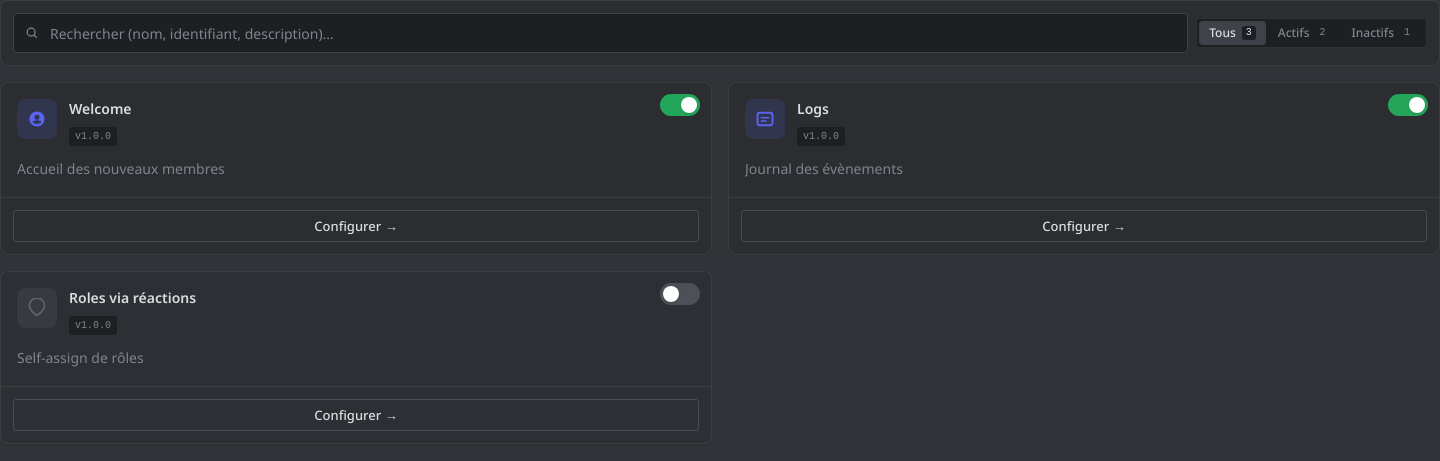
Test: ModuleList › filtre par texte (nom, id, description) via la barre de recherche
In the search field named "Rechercher un module": (601, 33) [13, 13, 1188, 53], type "accueil"
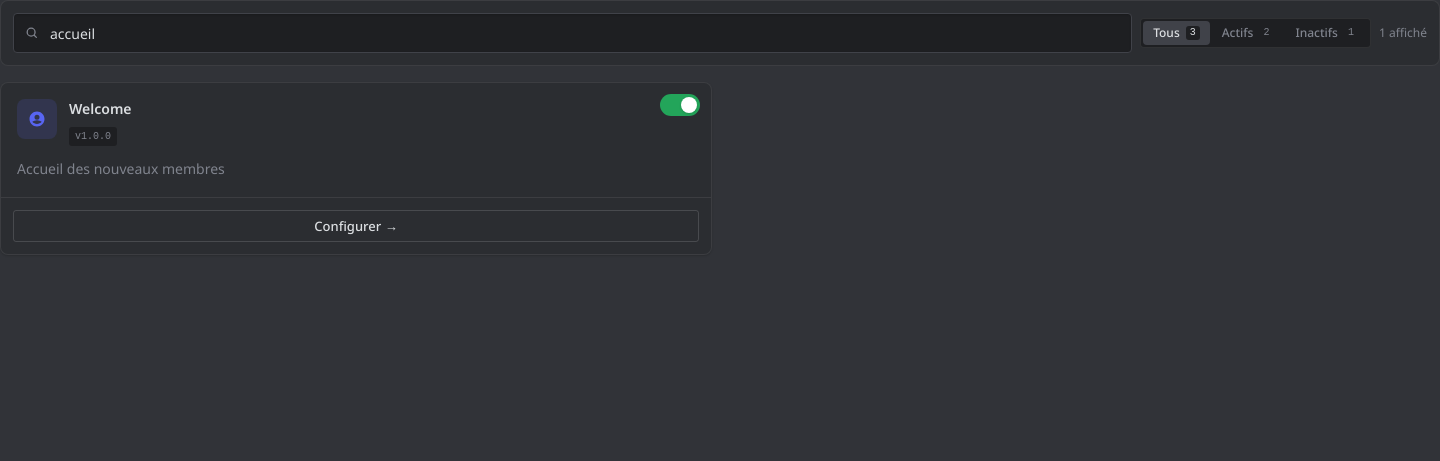
Expected: the link "Welcome v1.0.0 Accueil des nouveaux membres Configurer →" is shown, [0, 82, 712, 255]
Result: the link "Logs" is gone
